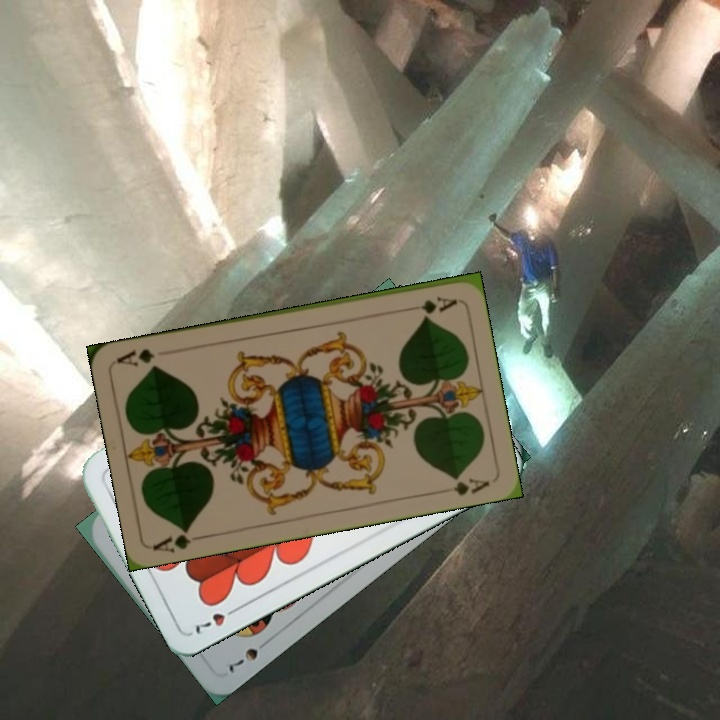GA: (150, 523, 208, 555), (400, 292, 459, 317)
H7: (191, 602, 243, 637)
S7: (224, 635, 272, 677)
